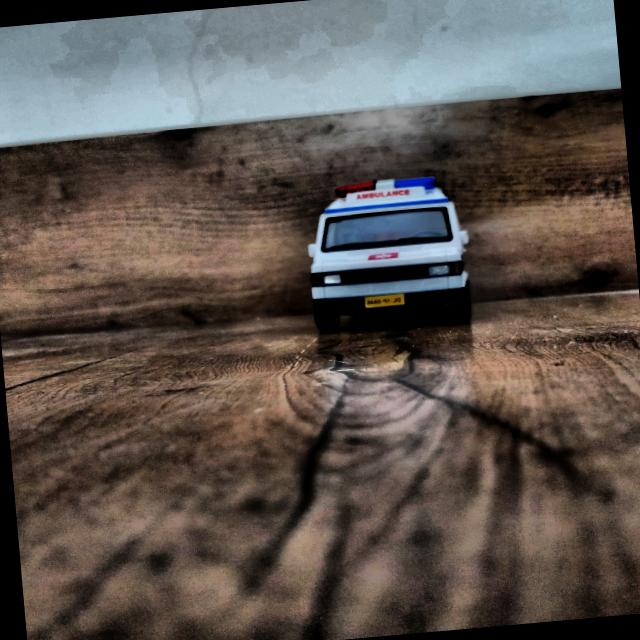Ambulance: (284, 164, 496, 346)
